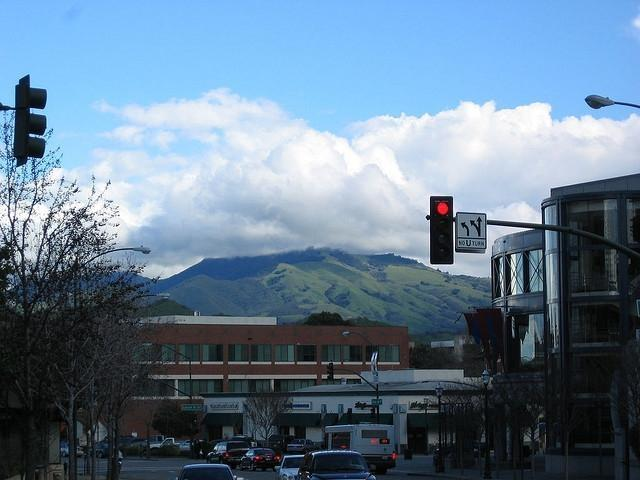bus: (325, 424, 396, 474)
car: (296, 448, 378, 480), (176, 464, 244, 480), (238, 447, 278, 470), (279, 454, 305, 480), (268, 435, 300, 451), (286, 440, 320, 453), (61, 443, 85, 458), (83, 444, 108, 458), (125, 438, 145, 452)
truck: (324, 427, 395, 472), (204, 440, 252, 470), (149, 437, 183, 454)
